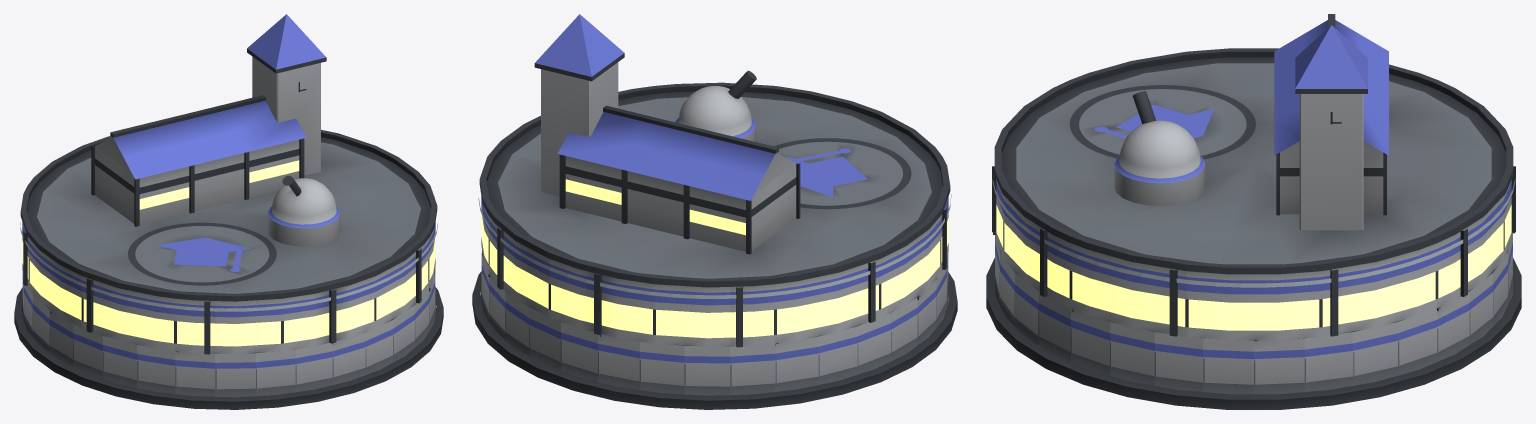
File: academy_s_far.glb
3 renders of one model, left to right at view 1: azimuth 30°, elevation 25°; view 2: azimuth 150°, elevation 25°; view 3: azimuth 270°, elevation 25°, orthographic. The views are drawn at different scales.
Visible parts, largest first — view 1: Roof, Base; view 2: Roof, Base; view 3: Roof, Base.
Part boxes in pixels (bbox=[...]): Roof: bbox=[20, 14, 437, 354]; Base: bbox=[14, 268, 443, 409]; Roof: bbox=[478, 14, 951, 347]; Base: bbox=[472, 250, 957, 409]; Roof: bbox=[992, 14, 1515, 340]; Base: bbox=[986, 232, 1521, 409].
Bounding box in the file's own units: 11.74 × 7.9 × 11.74.
